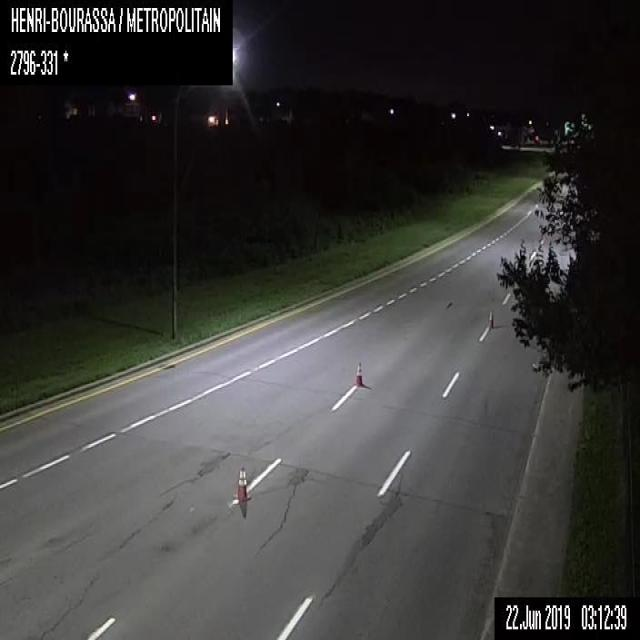construction: (234, 464, 250, 500), (353, 360, 362, 387), (486, 306, 493, 326)
